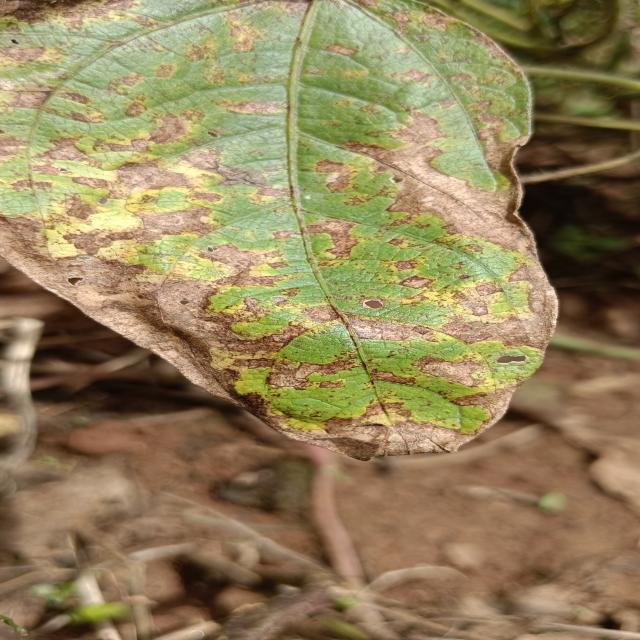Black gram_leaf spot: (0, 0, 568, 468)
